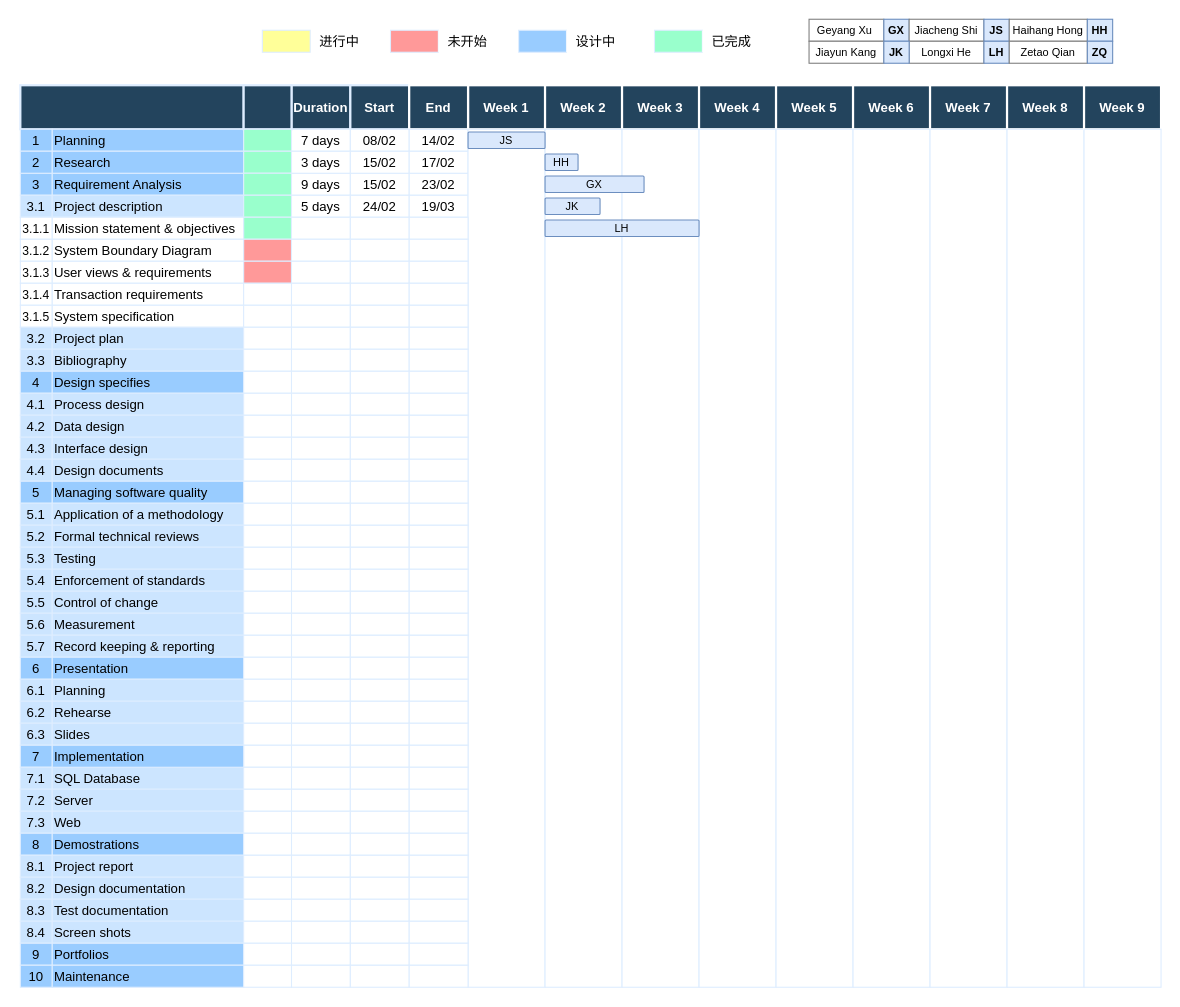
The diagram is 1180 pixels wide and 1007 high, and some of its shapes have lost their labels. The box of each missing label's shape, as (x1, y1, x2, y2) in pixels:
Status: (242, 84, 292, 130)
Task Name: (19, 84, 244, 130)
